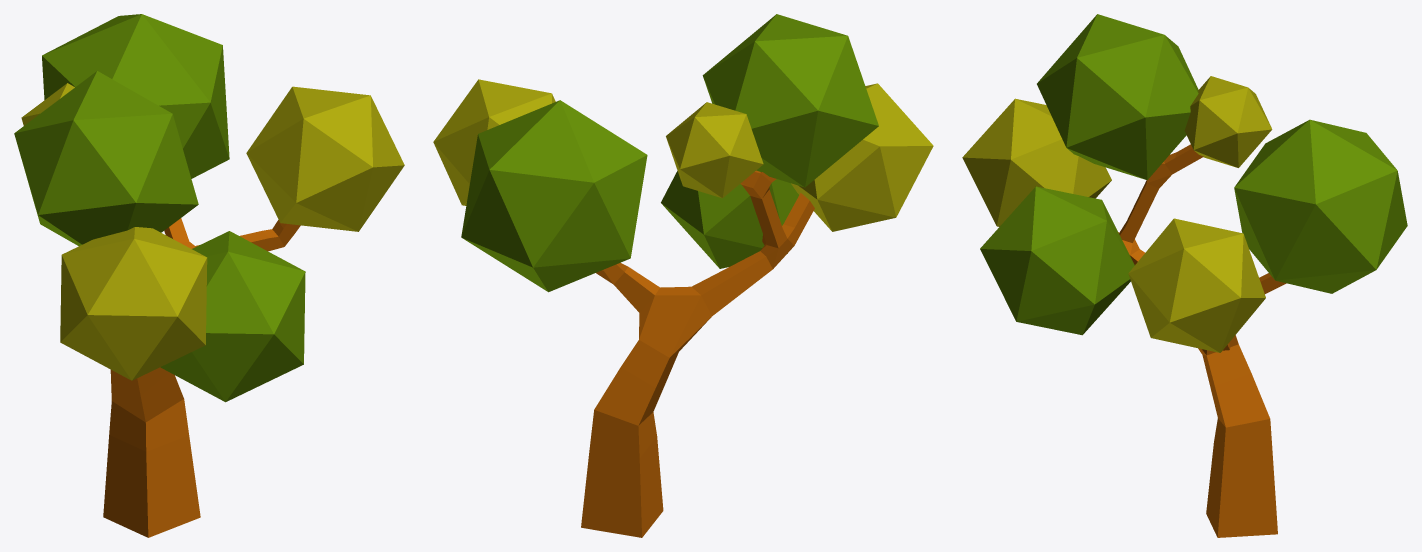
File: ağaçlar2.fbx
The picture shows the model from 3 angles, left to right: view 1: azimuth 30°, elevation 25°; view 2: azimuth 150°, elevation 25°; view 3: azimuth 270°, elevation 25°; orthographic projection. The views are drawn at different scales.
Visible parts, largest first — view 1: Vert; view 2: Vert; view 3: Vert.
Boxes of the visible parts, x1,y1,x2,y2 form: Vert: [14, 14, 404, 537]; Vert: [433, 14, 933, 537]; Vert: [962, 14, 1407, 537].
Bounding box in the file's own units: 447 × 524 × 472.
